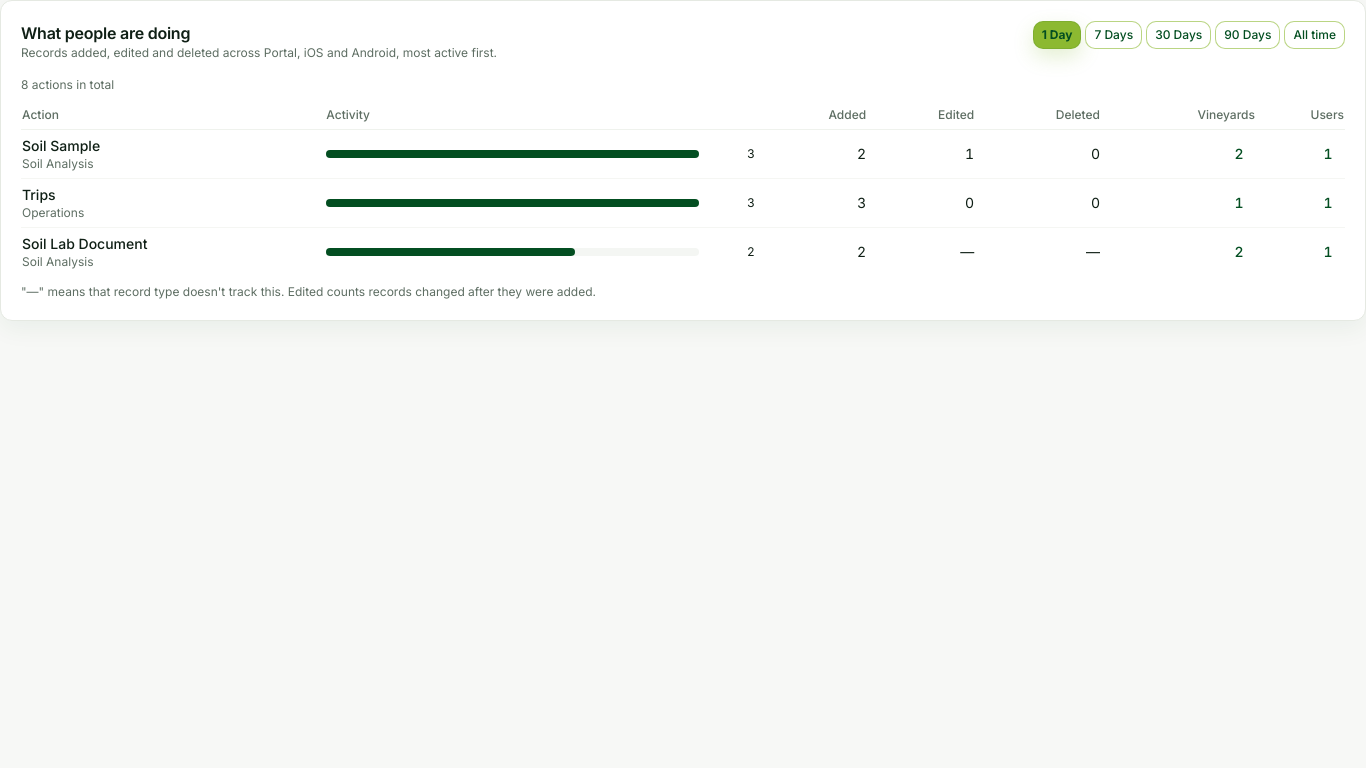
Scenario: What people are doing — soil activity › opens the soil vineyard list from the vineyard count
The width and height of the screenshot is (1366, 768).
Expected: the text "Soil Sample" is shown, [22, 137, 100, 154]
Click the button named "Soil Sample: 2 vineyards": click(1239, 154) [1223, 144, 1255, 164]
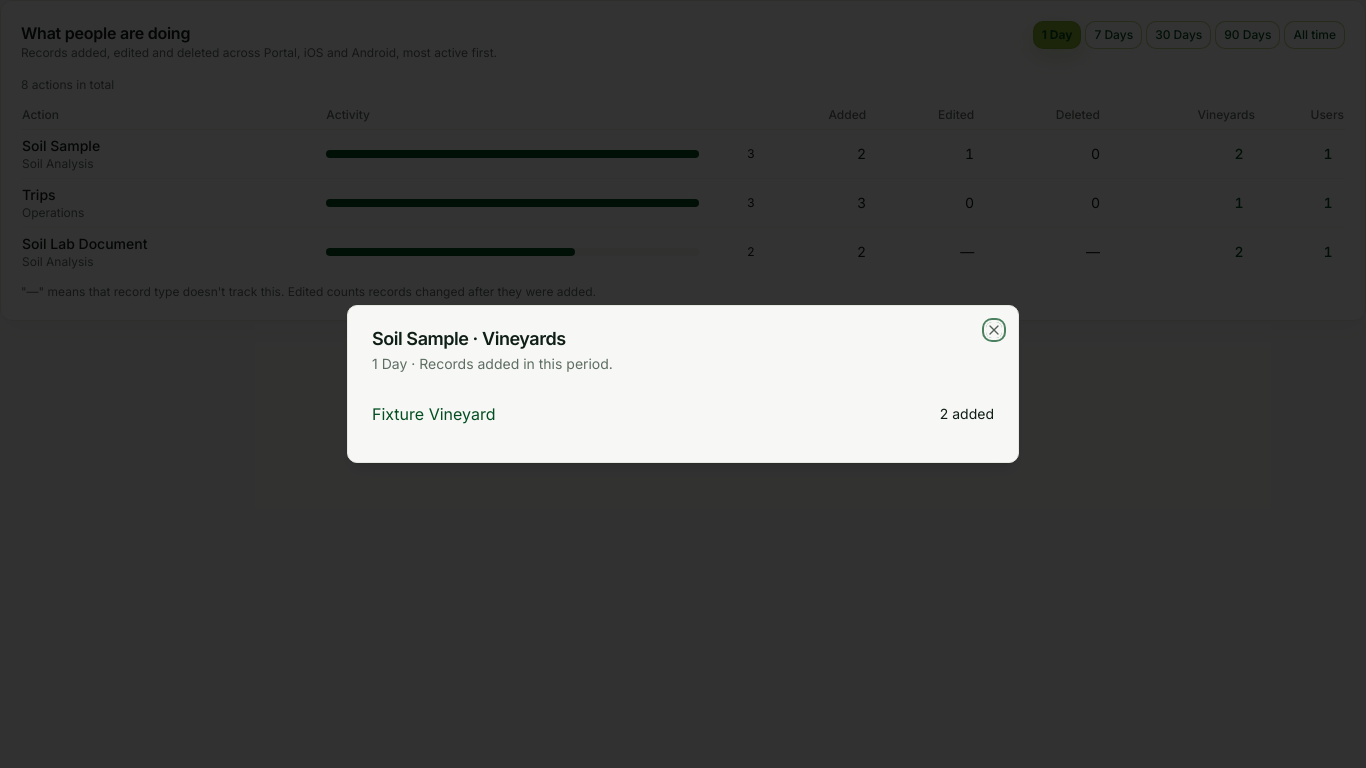
Expected: the link "Fixture Vineyard" is shown, [372, 404, 496, 424]
Expected: the text "2 added" is shown, [939, 404, 994, 424]
